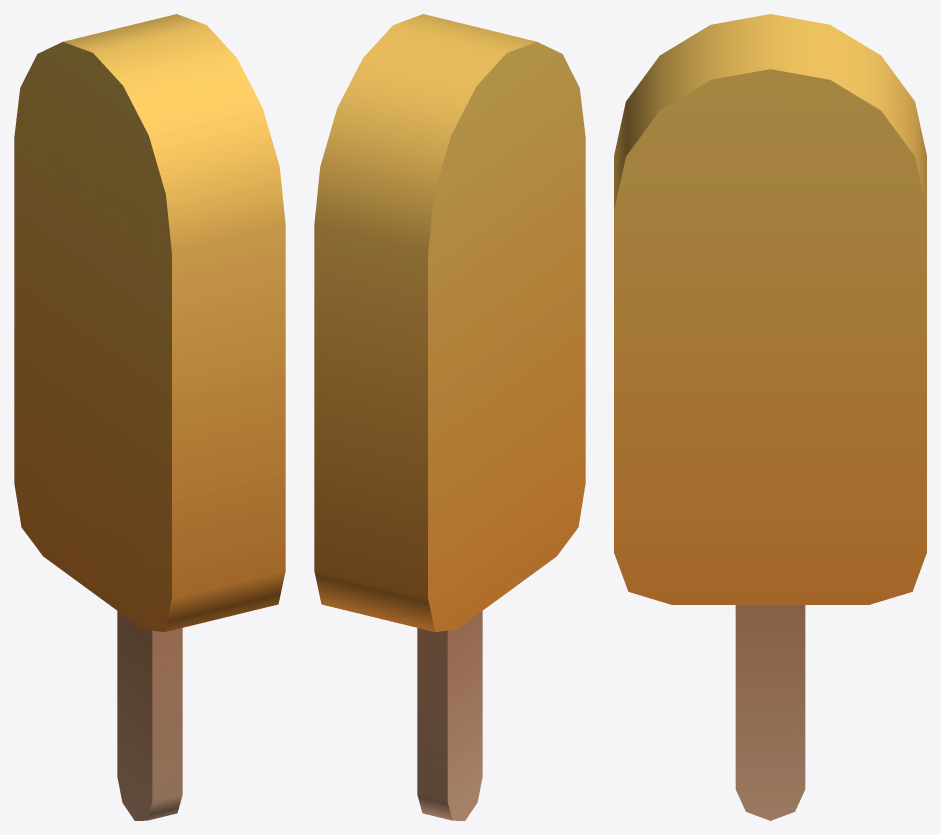
Rendered from popsicle.glb.
The picture shows the model from 3 angles, left to right: view 1: azimuth 30°, elevation 25°; view 2: azimuth 150°, elevation 25°; view 3: azimuth 270°, elevation 25°; orthographic projection.
Visible parts, largest first — view 1: popsicle; view 2: popsicle; view 3: popsicle.
Boxes of the visible parts, x1,y1,x2,y2 form: popsicle: (14, 14, 285, 820); popsicle: (314, 14, 585, 820); popsicle: (614, 14, 926, 820).
Size of the model in its own units: 0.0214 by 0.14 by 0.0514.
1 material, 1 textured.
